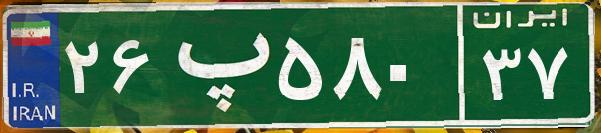0: (385, 28, 445, 110)
2: (57, 26, 110, 107)
3: (475, 38, 525, 113)
5: (273, 28, 330, 110)
6: (110, 28, 158, 105)
7: (525, 38, 570, 115)
8: (330, 28, 385, 110)
پ: (158, 15, 273, 115)
